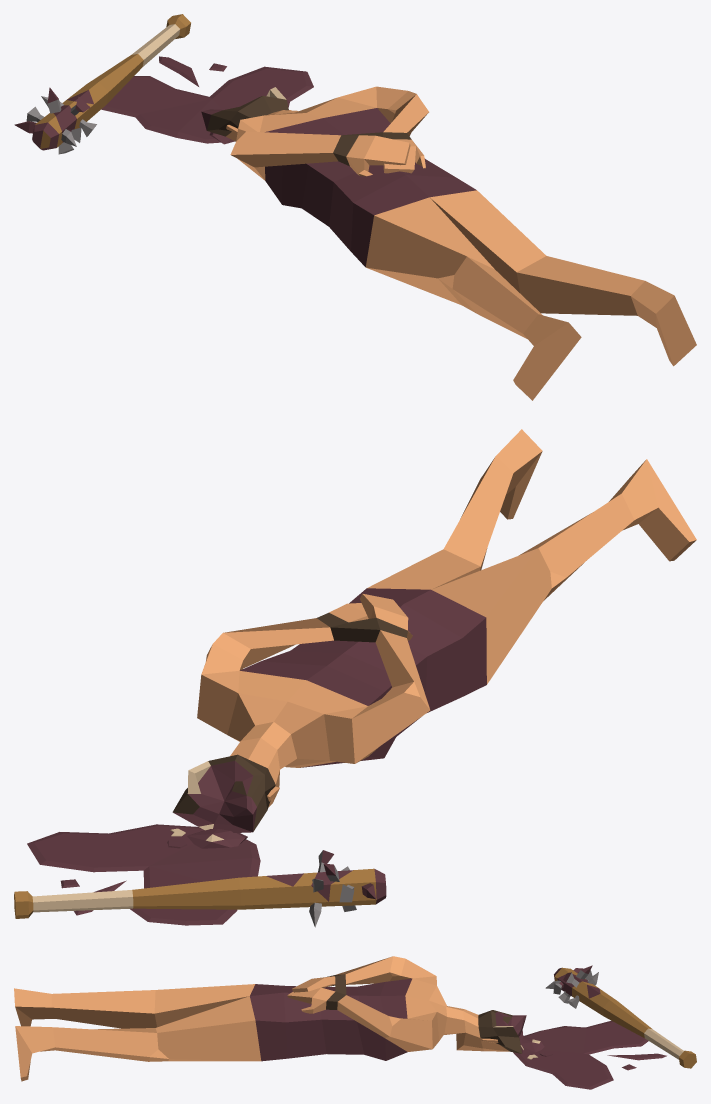
The model's file is woman-swimming-dead-a.fbx.
The picture shows the model from 3 angles, top to bottom: view 1: azimuth 30°, elevation 25°; view 2: azimuth 150°, elevation 25°; view 3: azimuth 270°, elevation 25°; orthographic projection. The views are drawn at different scales.
Parts seen in each view (by area): view 1: woman-swimming-dead-a; view 2: woman-swimming-dead-a; view 3: woman-swimming-dead-a.
Boxes of the visible parts, x1,y1,x2,y2 form: woman-swimming-dead-a: (14,14,696,400); woman-swimming-dead-a: (14,429,696,927); woman-swimming-dead-a: (14,956,696,1089).
Size of the model in its own units: 0.8712 by 0.2962 by 2.39.
